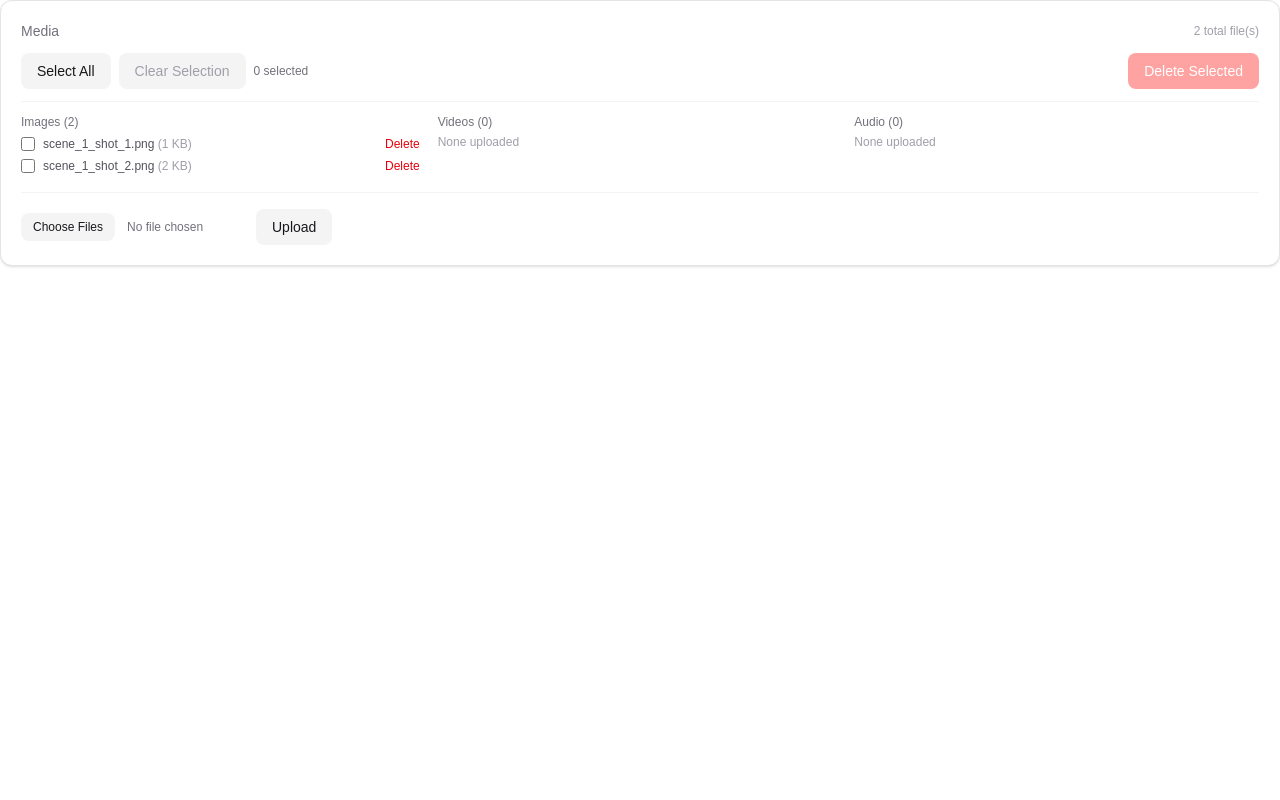
MediaPanel › bulk-deletes selected files and reports partial failures individually
Check: the text "scene_1_shot_1.png" is shown, box [43,137,154,151]
Click the button "Select All" at {"x": 66, "y": 71}, box [21,53,111,89]
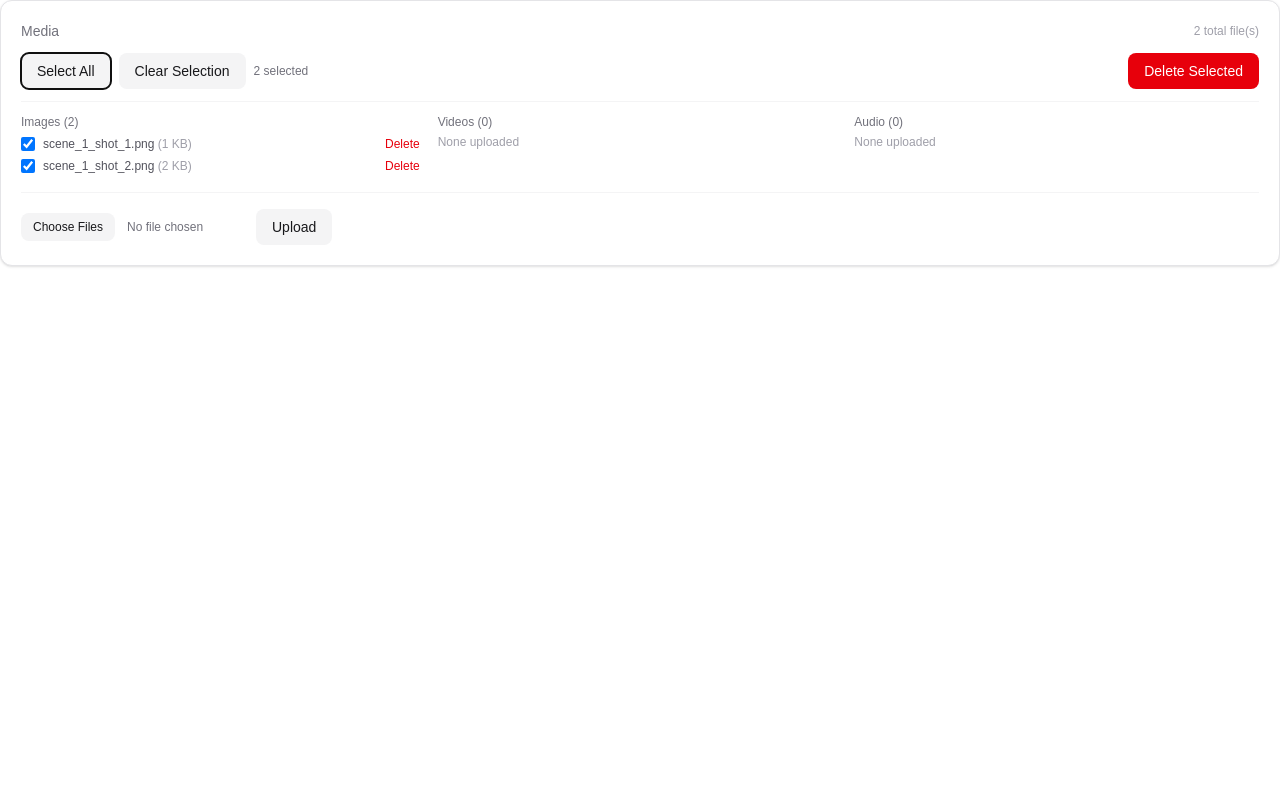
Click the button "Delete Selected" at {"x": 1194, "y": 71}, box [1128,53,1259,89]
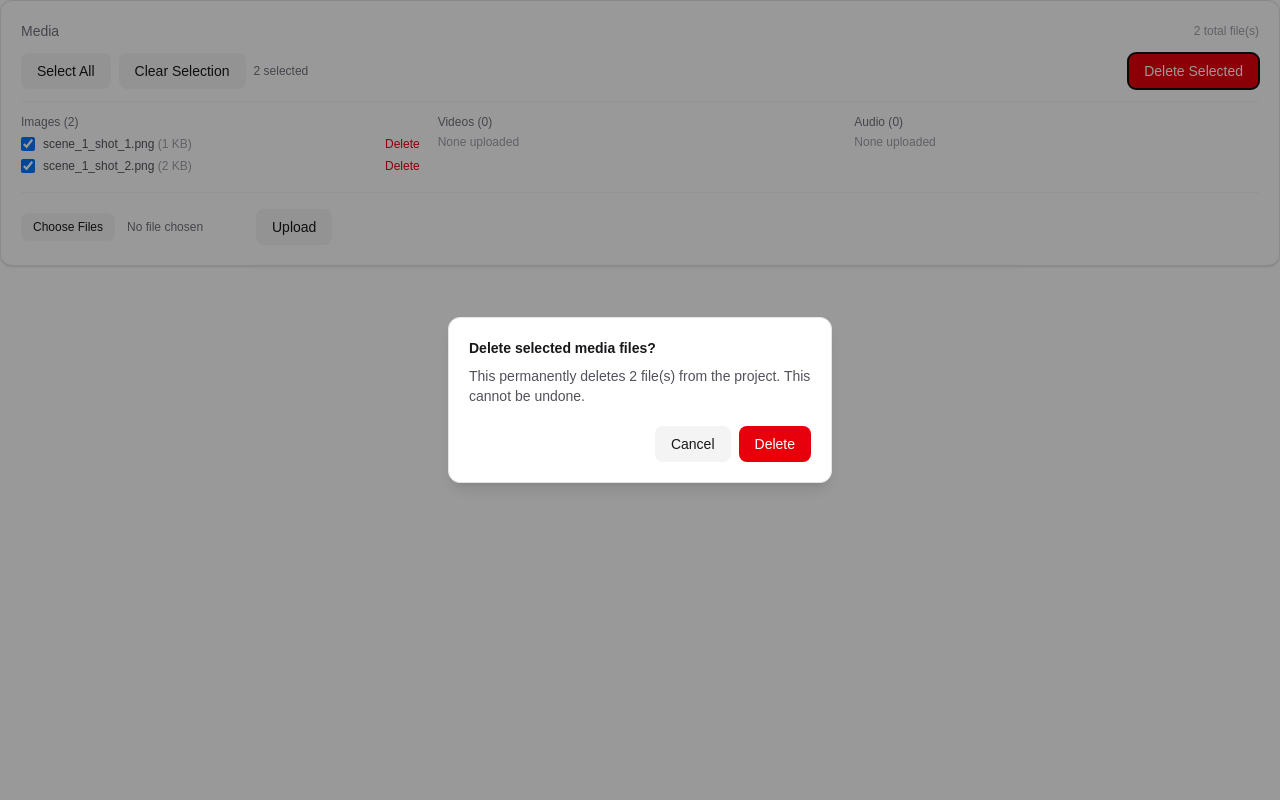
Click the button "Delete" at {"x": 775, "y": 444}, box [738,426,811,462]
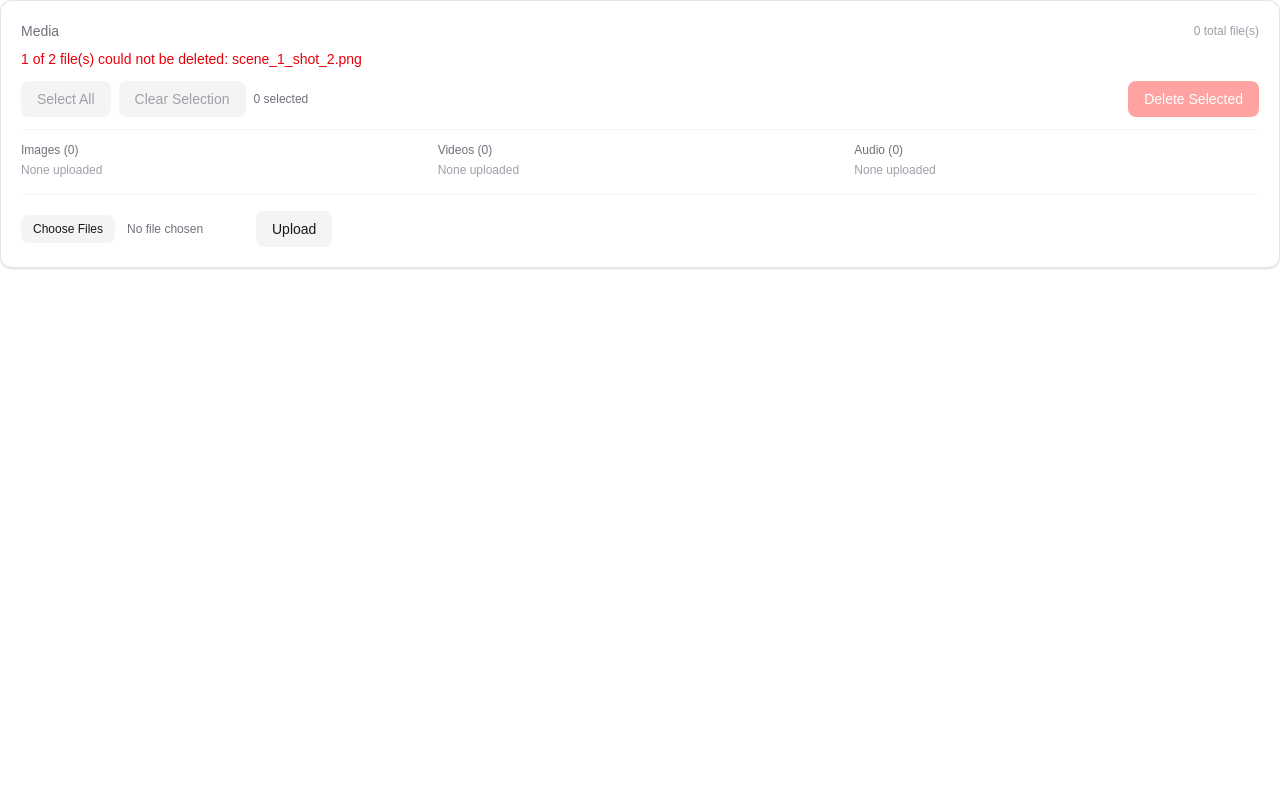
Check: the text "1 of 2 file(s) could not be deleted: scene_1_shot_2.png" is shown, box [21,51,362,67]
